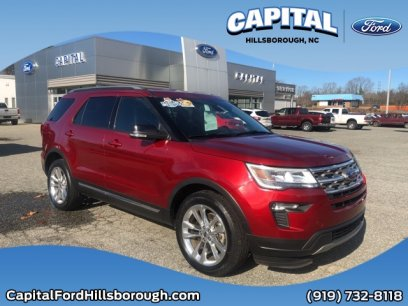Ford Explorer: (38, 84, 370, 279)
